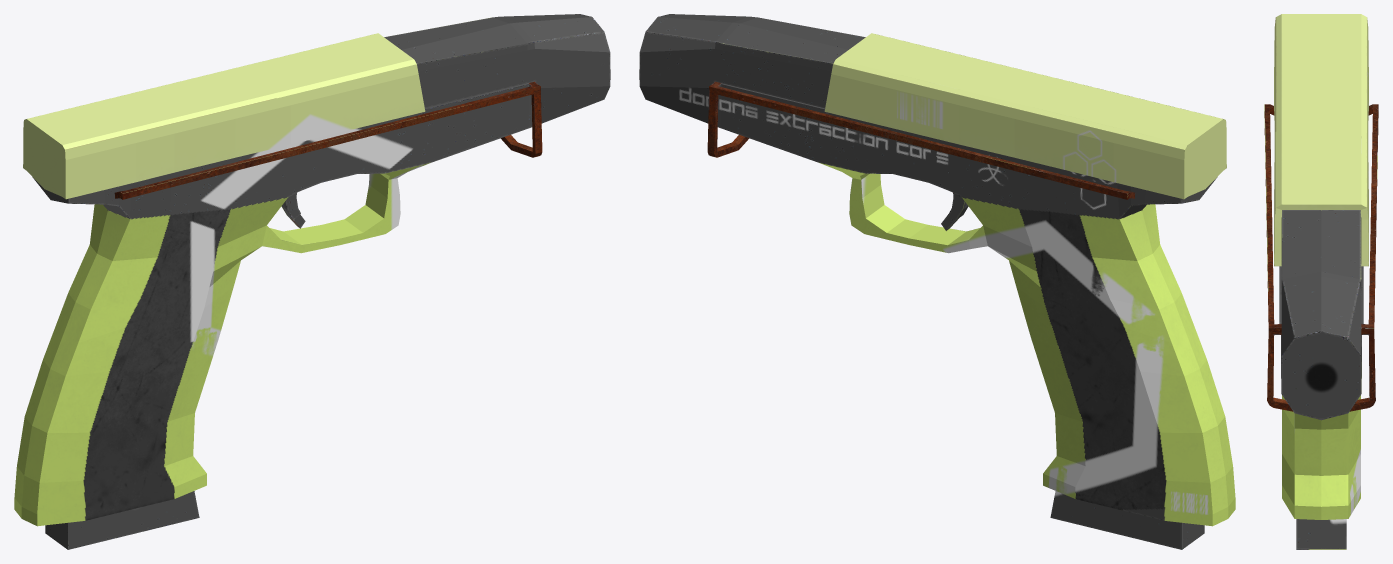
Rendered from pistol.glb.
3 views of the same model, side by side, from view 1: azimuth 30°, elevation 25°; view 2: azimuth 150°, elevation 25°; view 3: azimuth 270°, elevation 25° (orthographic). The views are drawn at different scales.
Parts seen in each view (by area): view 1: Cube; view 2: Cube; view 3: Cube.
Boxes of the visible parts, <box> form: Cube: <box>14,14,610,549</box>; Cube: <box>639,14,1235,549</box>; Cube: <box>1264,14,1378,549</box>.
Bounding box in the file's own units: 4.32 × 2.99 × 0.6751.
1 material, 1 textured.
